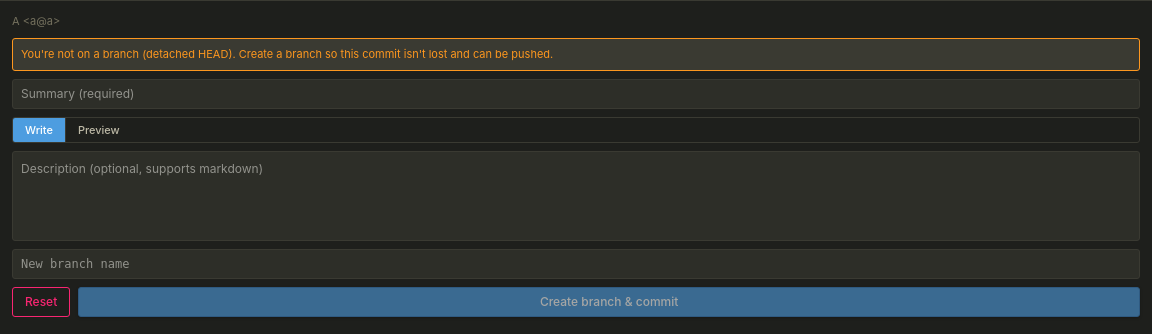
Test case: CommitForm › on a detached HEAD › blocks the normal commit and requires creating a branch
Expected: the message shows "detached HEAD", left=21, top=46, right=553, bottom=60
Note: A subject alone isn't enough — a branch name is required.
Type "Fix" into the field with placeholder "Summary (required)" at coordinates (576, 94), box left=12, top=79, right=1140, bottom=109
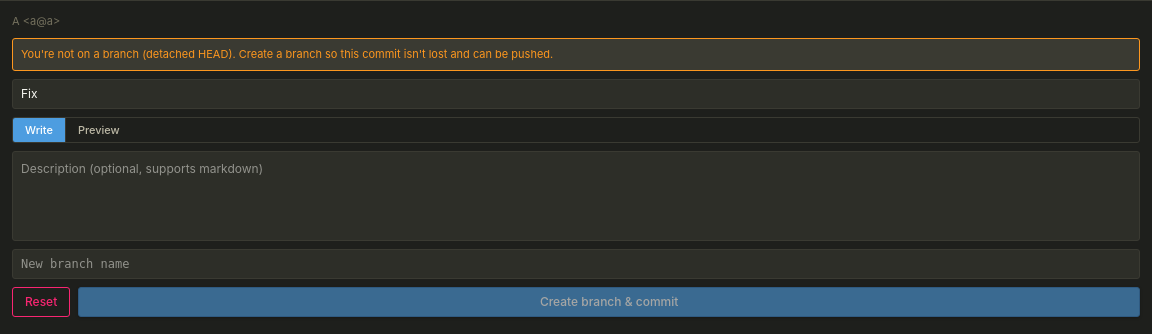
Expected: the button "Create branch & commit" is disabled, left=78, top=287, right=1140, bottom=317
Type "fix/bug" into the field labelled "New branch name" at coordinates (576, 264), box left=12, top=249, right=1140, bottom=279
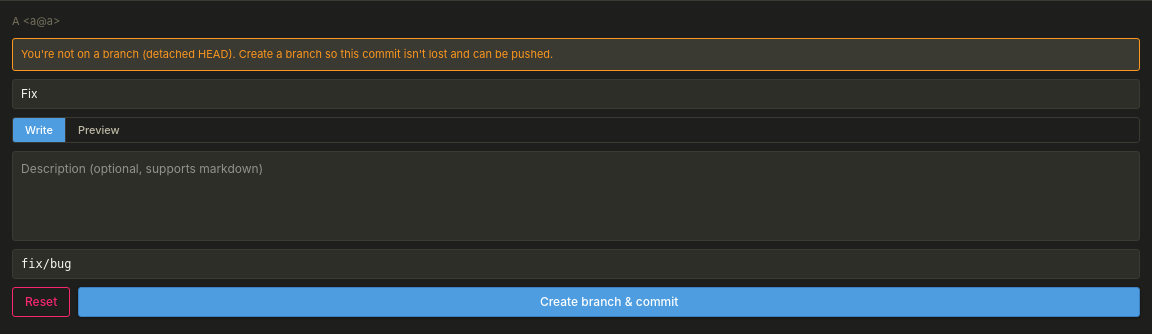
Expected: the button "Create branch & commit" is enabled, left=78, top=287, right=1140, bottom=317
